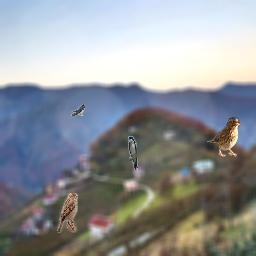Sparrow: (206, 117, 240, 157), (57, 193, 78, 233)
Swallow: (128, 136, 138, 170), (71, 104, 85, 116)
